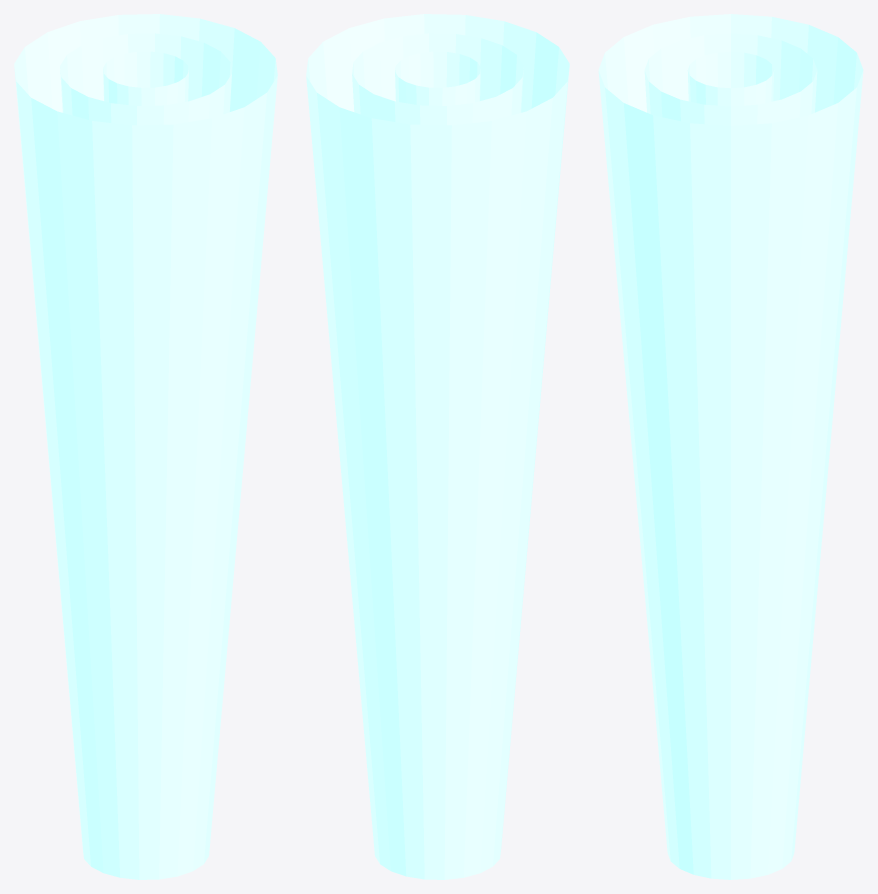
The model's file is fx_light_shaft.glb.
3 renders of one model, left to right at view 1: azimuth 30°, elevation 25°; view 2: azimuth 150°, elevation 25°; view 3: azimuth 270°, elevation 25°, orthographic.
Parts seen in each view (by area): view 1: fx_light_shaft_beam; view 2: fx_light_shaft_beam; view 3: fx_light_shaft_beam.
Boxes of the visible parts, x1,y1,x2,y2 form: fx_light_shaft_beam: [14, 14, 277, 879]; fx_light_shaft_beam: [306, 14, 569, 879]; fx_light_shaft_beam: [598, 14, 863, 879].
Bounding box in the file's own units: 9.2 × 30 × 9.2.
